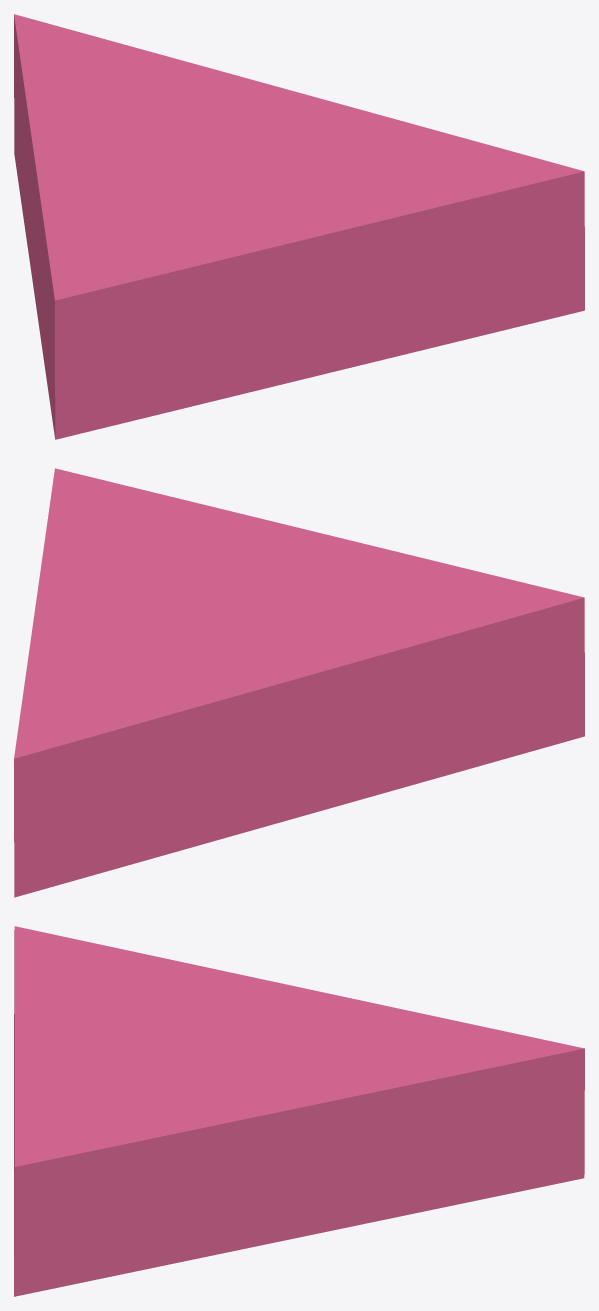
Rendered from 4obstacle.fbx.
3 renders of one model, top to bottom at view 1: azimuth 30°, elevation 25°; view 2: azimuth 150°, elevation 25°; view 3: azimuth 270°, elevation 25°, orthographic. The views are drawn at different scales.
Visible parts, largest first — view 1: Cube.001; view 2: Cube.001; view 3: Cube.001.
Part boxes in pixels (x1,y1,x2,y2): Cube.001: [14, 14, 584, 439]; Cube.001: [14, 468, 584, 897]; Cube.001: [14, 926, 584, 1296].
Size of the model in its own units: 7.87 by 2 by 7.88.
